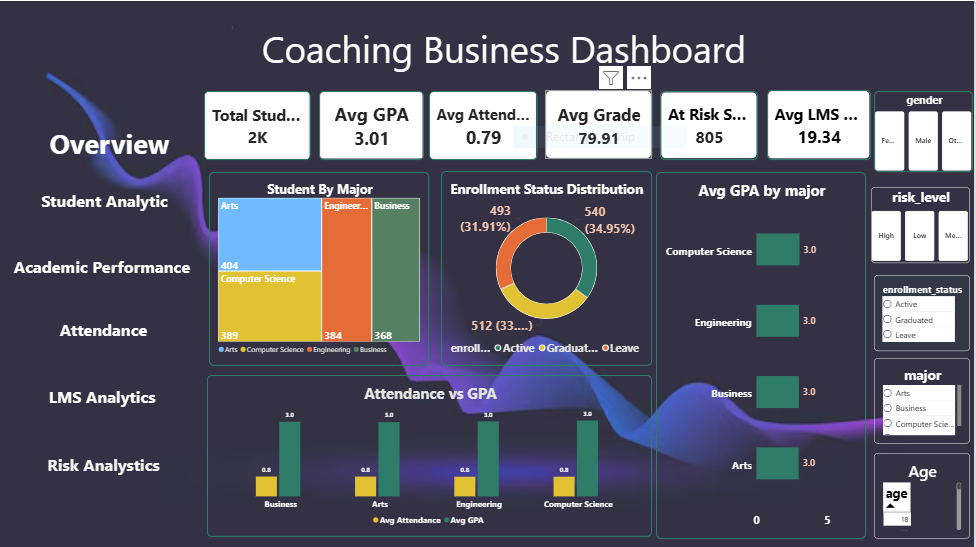

This screenshot's page, from the dashboard's own definition file:
{"tool":"powerbi","page":{"name":"Page 1","canvas":[1920,1080],"ordinal":0},"visuals":[{"type":"actionButton","box":[1980.8,1126.3,164.5,67.9],"z":0},{"type":"textbox","box":[0,43.4,1919.6,134],"z":1000},{"type":"textbox","box":[604.2,273.5,12.5,67.9],"z":2000},{"type":"textbox","box":[0,244.4,402,98.5],"z":3000},{"type":"textbox","box":[0,366.6,402,96.6],"z":4000},{"type":"textbox","box":[0,500.6,402,88.7],"z":5000},{"type":"textbox","box":[0,624.7,408,94.6],"z":6000},{"type":"textbox","box":[0,756.8,402,84.7],"z":7000},{"type":"textbox","box":[0,890.8,408,84.7],"z":8000},{"type":"cardVisual","fields":{"Data":["Sheet1.Total Students"]},"box":[402.3,177.8,209.5,136.1],"z":9000},{"type":"cardVisual","fields":{"Data":["Sheet1.Avg GPA"]},"box":[628.7,177.4,206.9,136],"z":10000},{"type":"cardVisual","fields":{"Data":["Sheet1.Avg Attendance"]},"box":[845.1,177.8,213.8,136.1],"z":11000},{"type":"cardVisual","fields":{"Data":["Sheet1.Avg Grade"]},"box":[1074.1,175.6,211.7,136.1],"z":12000},{"type":"cardVisual","fields":{"Data":["Sheet1.At Risk Students"]},"box":[1300.7,177.4,193.1,136],"z":13000},{"type":"cardVisual","fields":{"Data":["Sheet1.Avg LMS Logins"]},"box":[1511.6,175.4,205,138],"z":14000},{"type":"donutChart","title":"Enrollment Status Distribution","fields":{"Category":["Sheet1.enrollment_status"],"Y":["Sheet1.Student Count"]},"box":[869.1,335,415.8,384.3],"z":19000},{"type":"clusteredColumnChart","title":"Attendance vs GPA","fields":{"Category":["Sheet1.major"],"Y":["Sheet1.Avg Attendance","Sheet1.Avg GPA"]},"box":[408,737.1,877,319.3],"z":20000},{"type":"advancedSlicerVisual","fields":{"Values":["Sheet1.risk_level"]},"box":[1716.6,366.6,195.1,149.8],"z":21000},{"type":"listSlicer","fields":{"Values":["Sheet1.enrollment_status"]},"box":[1722.5,540,189.2,149.8],"z":22000},{"type":"listSlicer","fields":{"Values":["Sheet1.major"]},"box":[1722.5,703.6,189.2,169.5],"z":23000},{"type":"clusteredBarChart","fields":{"Category":["Sheet1.major"],"Y":["Sheet1.Avg GPA"]},"box":[1292.8,337,413.9,723.3],"z":24000},{"type":"treemap","title":"Student By Major","fields":{"Group":["Sheet1.major"],"Values":["Sheet1.Student Count"]},"box":[411.9,337,433.6,382.3],"z":25000},{"type":"advancedSlicerVisual","fields":{"Values":["Sheet1.gender"]},"box":[1722.5,177.4,195.1,159.6],"z":26000},{"type":"tableEx","title":"Age","fields":{"Values":["Sheet1.age"]},"box":[1722.5,890.8,189.2,169.5],"z":27000}]}

Visuals, with their boxes in screenshot pixels (x1, y1, x2, y2), scaled from the page's 1920x1080 canvas onto the 976x547 screenshot:
textbox: 0:22:975:90
textbox: 307:139:313:173
textbox: 0:124:204:174
textbox: 0:186:204:235
textbox: 0:254:204:298
textbox: 0:316:207:364
textbox: 0:383:204:426
textbox: 0:451:207:494
cardVisual - Sheet1.Total Students: 205:90:311:159
cardVisual - Sheet1.Avg GPA: 320:90:425:159
cardVisual - Sheet1.Avg Attendance: 430:90:538:159
cardVisual - Sheet1.Avg Grade: 546:89:654:158
cardVisual - Sheet1.At Risk Students: 661:90:759:159
cardVisual - Sheet1.Avg LMS Logins: 768:89:873:159
"Enrollment Status Distribution" donutChart: 442:170:653:364
"Attendance vs GPA" clusteredColumnChart: 207:373:653:535
advancedSlicerVisual - Sheet1.risk_level: 873:186:972:262
listSlicer - Sheet1.enrollment_status: 876:274:972:349
listSlicer - Sheet1.major: 876:356:972:442
clusteredBarChart - Sheet1.major x Sheet1.Avg GPA: 657:171:868:537
"Student By Major" treemap: 209:171:430:364
advancedSlicerVisual - Sheet1.gender: 876:90:975:171
"Age" tableEx: 876:451:972:537
